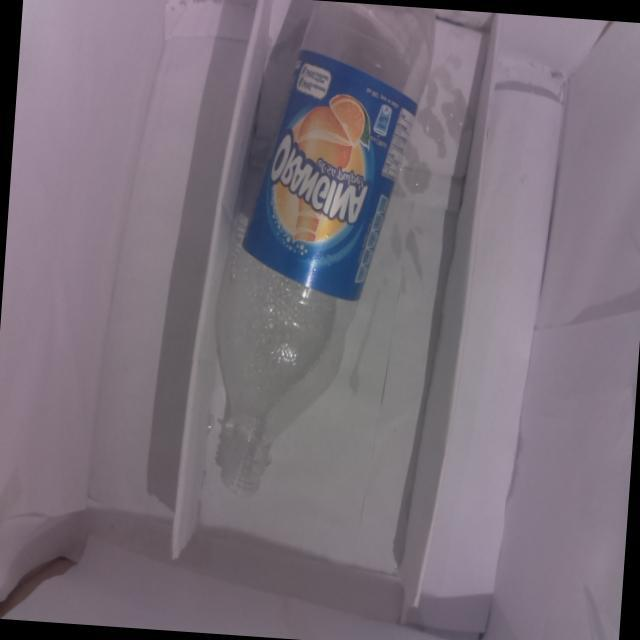good: (188, 0, 443, 514)
